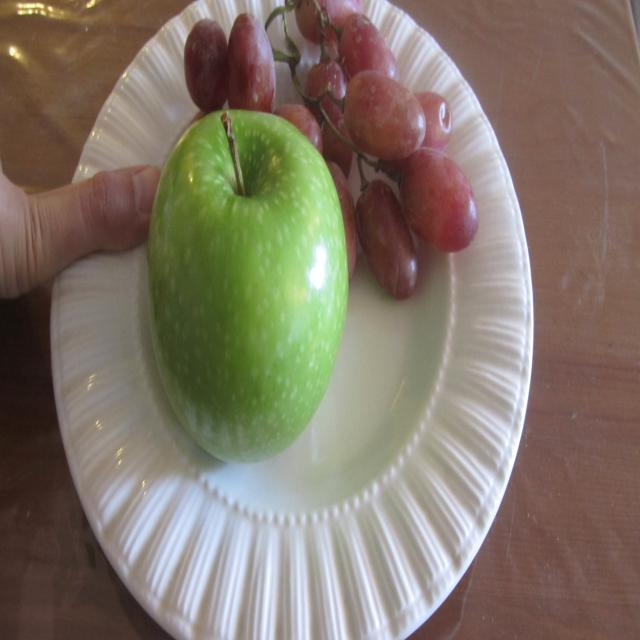Apple: (146, 107, 357, 471)
Finger: (70, 161, 151, 257)
Grapes: (352, 2, 484, 302), (188, 2, 396, 104)
